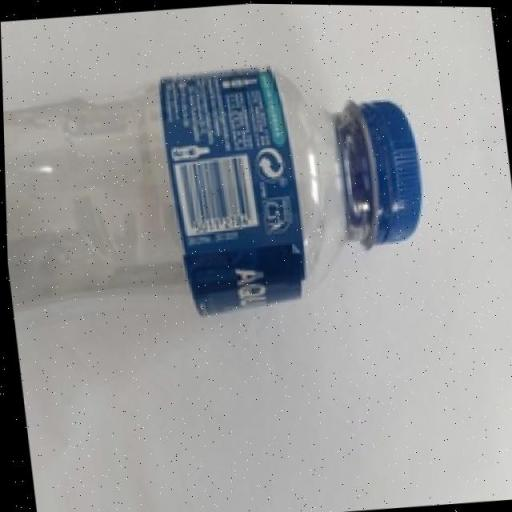plastic: (1, 46, 440, 332)
